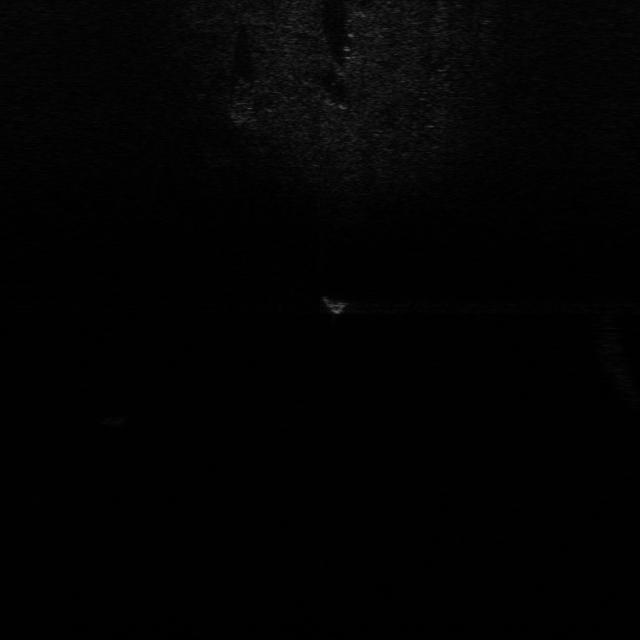square cage: (314, 286, 354, 318)
